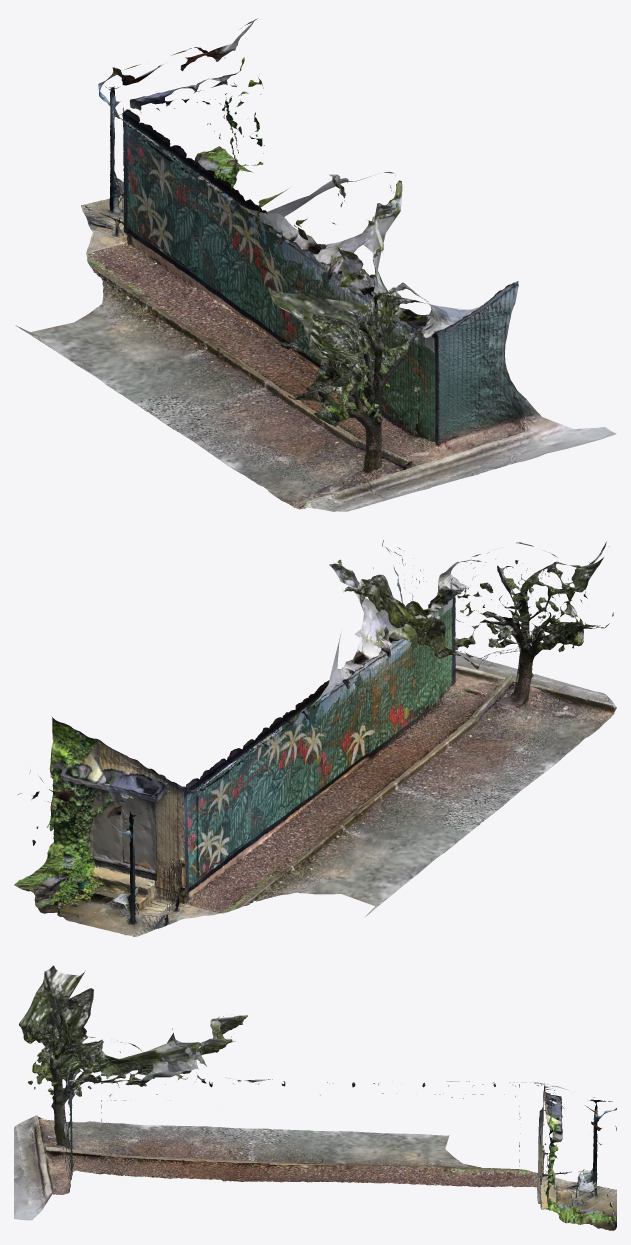
The model's file is OPNEYE.glb.
3 views of the same model, one above another, from view 1: azimuth 30°, elevation 25°; view 2: azimuth 150°, elevation 25°; view 3: azimuth 270°, elevation 25° (orthographic). The views are drawn at different scales.
Size of the model in its own units: 4.48 by 3.28 by 10.27.
Materials: 1 (1 with a texture image).
